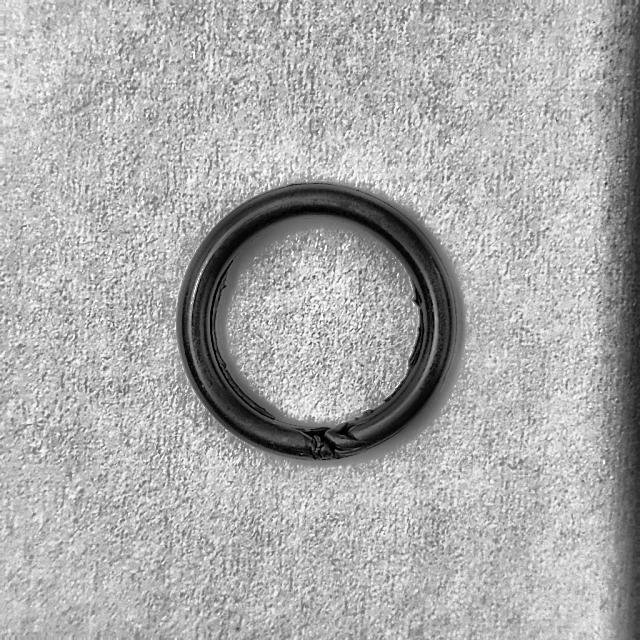切割缺陷: (292, 428, 361, 461), (329, 421, 371, 444)
裂纹: (212, 261, 276, 420), (383, 276, 425, 403), (354, 409, 374, 420)
